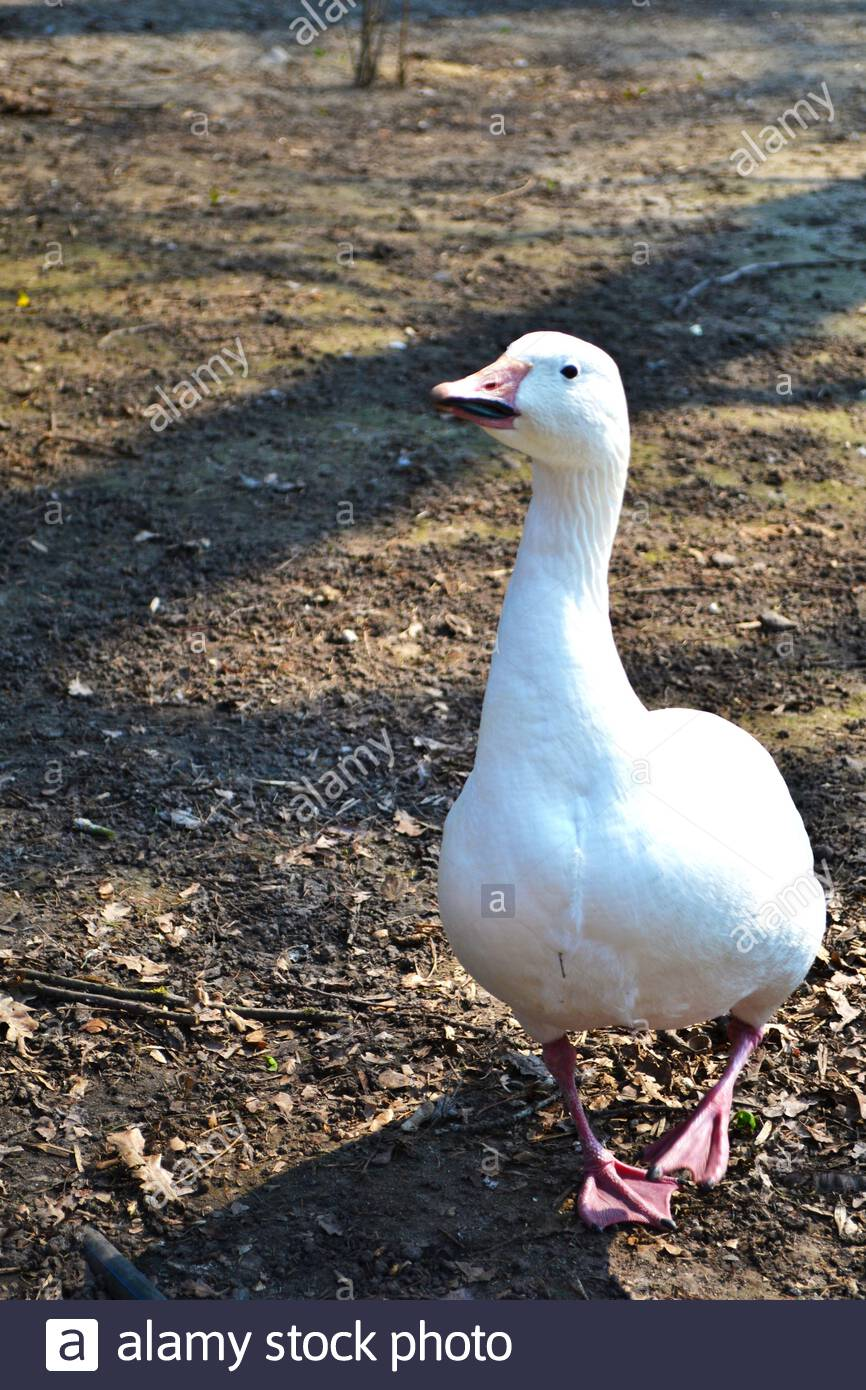goose: (412, 320, 837, 1244)
